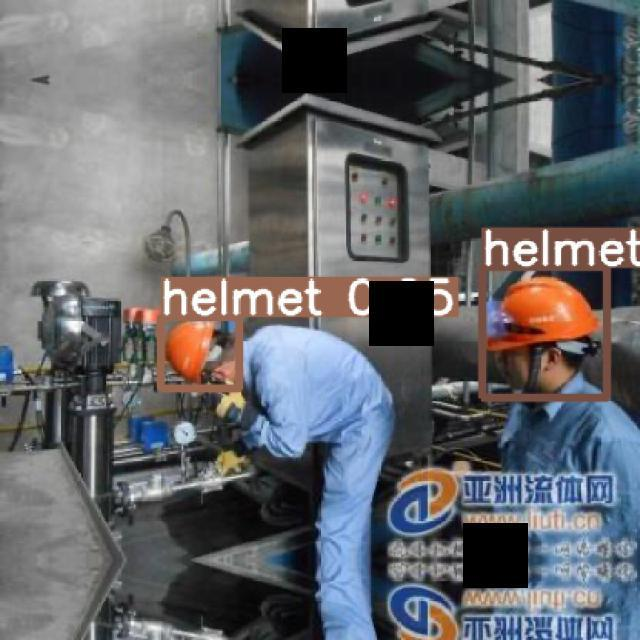red helmet: (485, 273, 604, 353), (168, 321, 219, 385)
